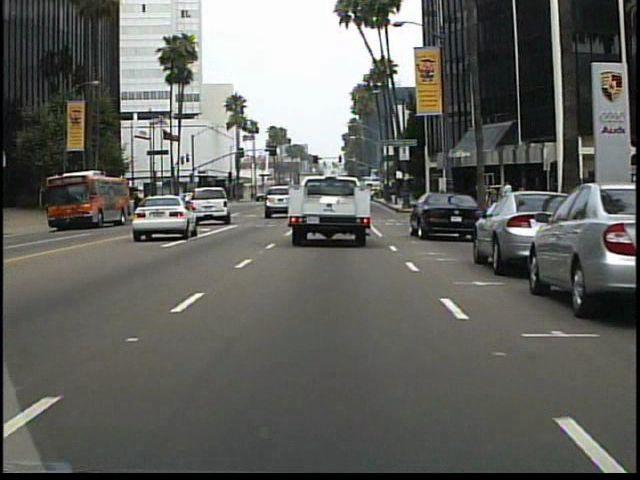person: (498, 178, 516, 218)
